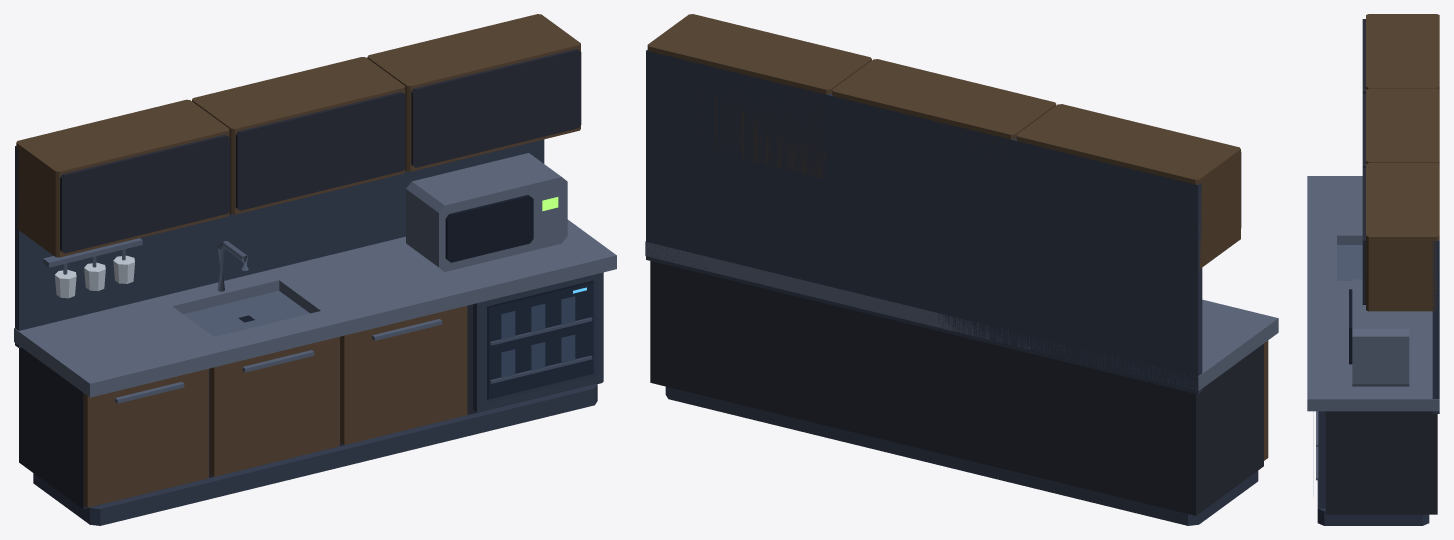
Rendered from off_kitchenette_counter.glb.
3 views of the same model, side by side, from view 1: azimuth 30°, elevation 25°; view 2: azimuth 150°, elevation 25°; view 3: azimuth 270°, elevation 25° (orthographic). The views are drawn at different scales.
Parts seen in each view (by area): view 1: wall_unit, cabinet_run, chiller_shelf, backsplash, chiller_interior, chiller_door, cup_hook, bottle, hanging_cup; view 2: backsplash, cabinet_run, wall_unit, chiller_shelf; view 3: wall_unit, chiller_shelf, cabinet_run, backsplash, cup_hook, chiller_interior.
Boxes of the visible parts, x1,y1,x2,y2 form: wall_unit: (16, 14, 580, 507); cabinet_run: (19, 48, 602, 509); chiller_shelf: (14, 153, 616, 397); backsplash: (15, 139, 603, 525); chiller_interior: (238, 195, 593, 399); chiller_door: (489, 282, 596, 402); cup_hook: (43, 238, 442, 403); bottle: (501, 296, 575, 377); hanging_cup: (54, 255, 134, 298); backsplash: (646, 50, 1258, 525); cabinet_run: (650, 152, 1263, 515); wall_unit: (647, 14, 1268, 460); chiller_shelf: (645, 241, 1278, 390); wall_unit: (1366, 14, 1439, 311); chiller_shelf: (1307, 176, 1439, 480); cabinet_run: (1325, 19, 1437, 514); backsplash: (1317, 240, 1439, 525); cup_hook: (1337, 245, 1362, 280); chiller_interior: (1349, 289, 1352, 364).
Bounding box in the file's own units: 3.6 × 2.2 × 0.9.
